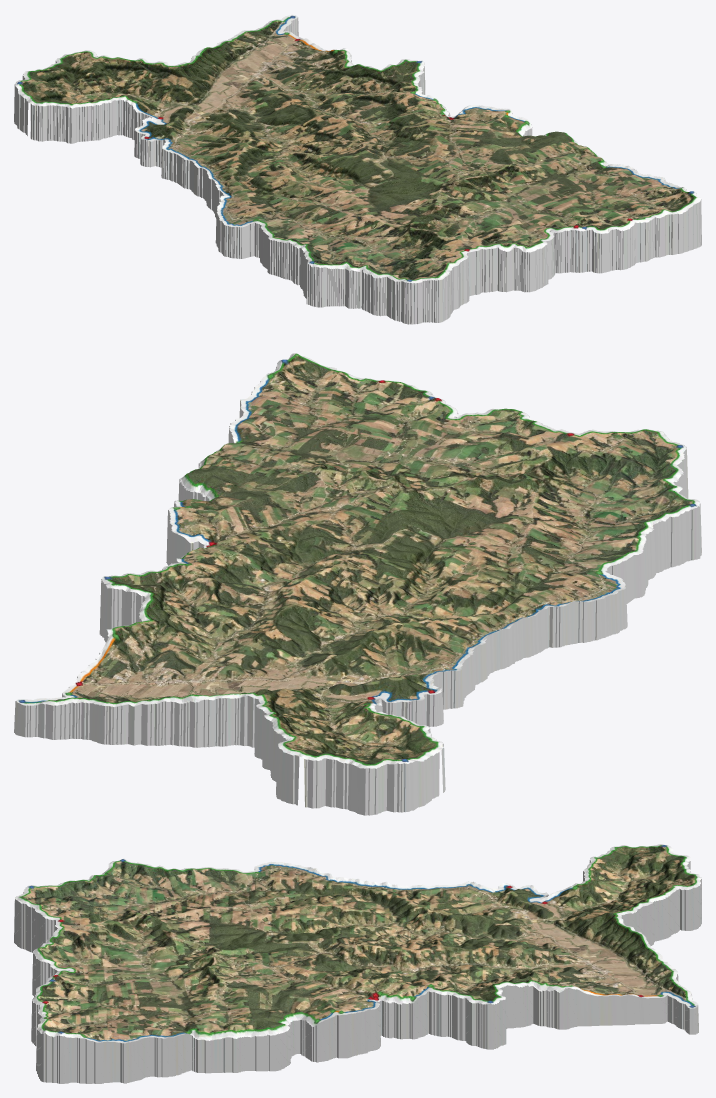
3 renders of one model, top to bottom at view 1: azimuth 30°, elevation 25°; view 2: azimuth 150°, elevation 25°; view 3: azimuth 270°, elevation 25°, orthographic. The views are drawn at different scales.
Bounding box in the file's own units: 1 × 0.1152 × 1.43.
1 material, 1 textured.
